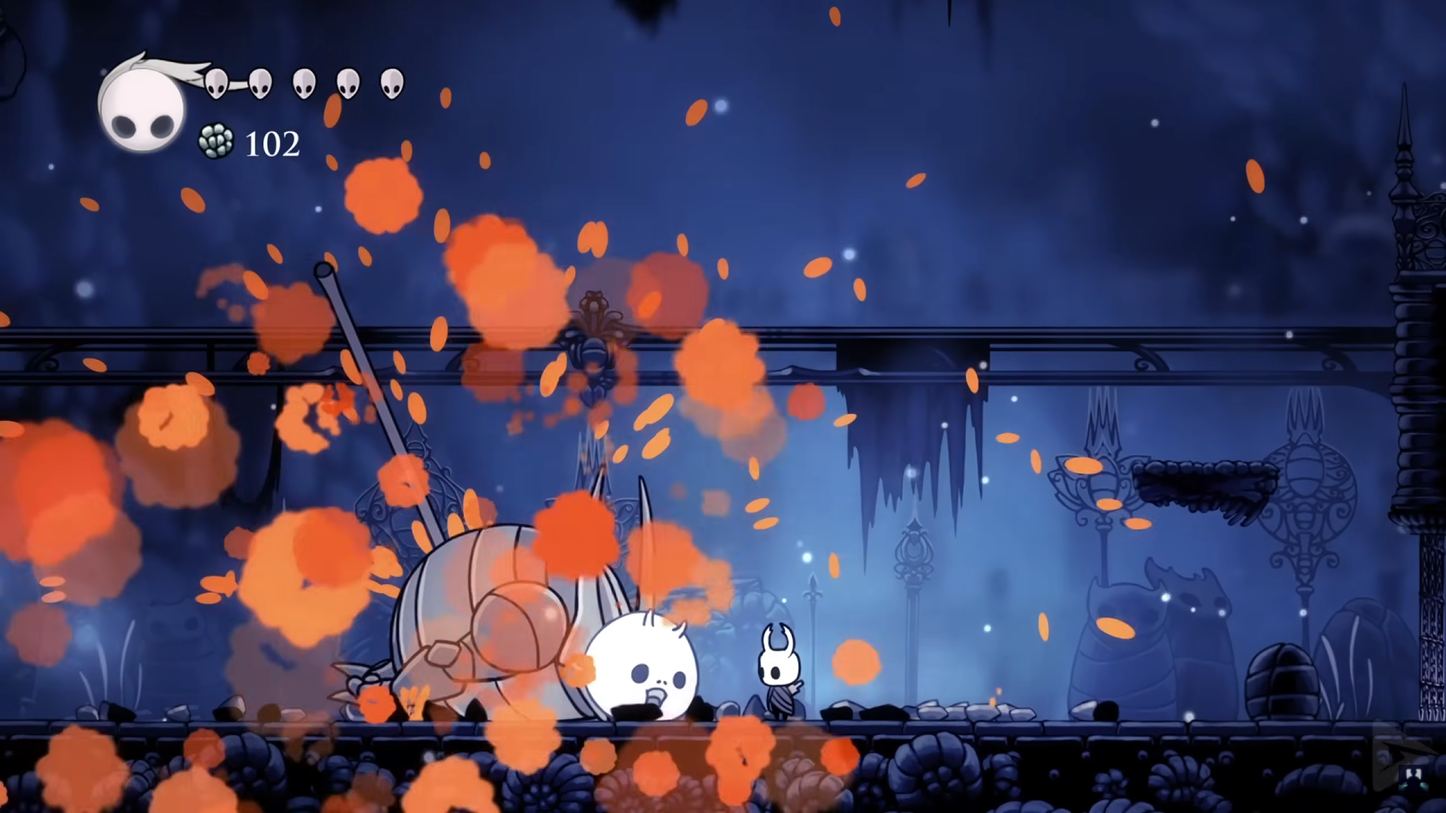HK: (755, 617, 806, 723)
